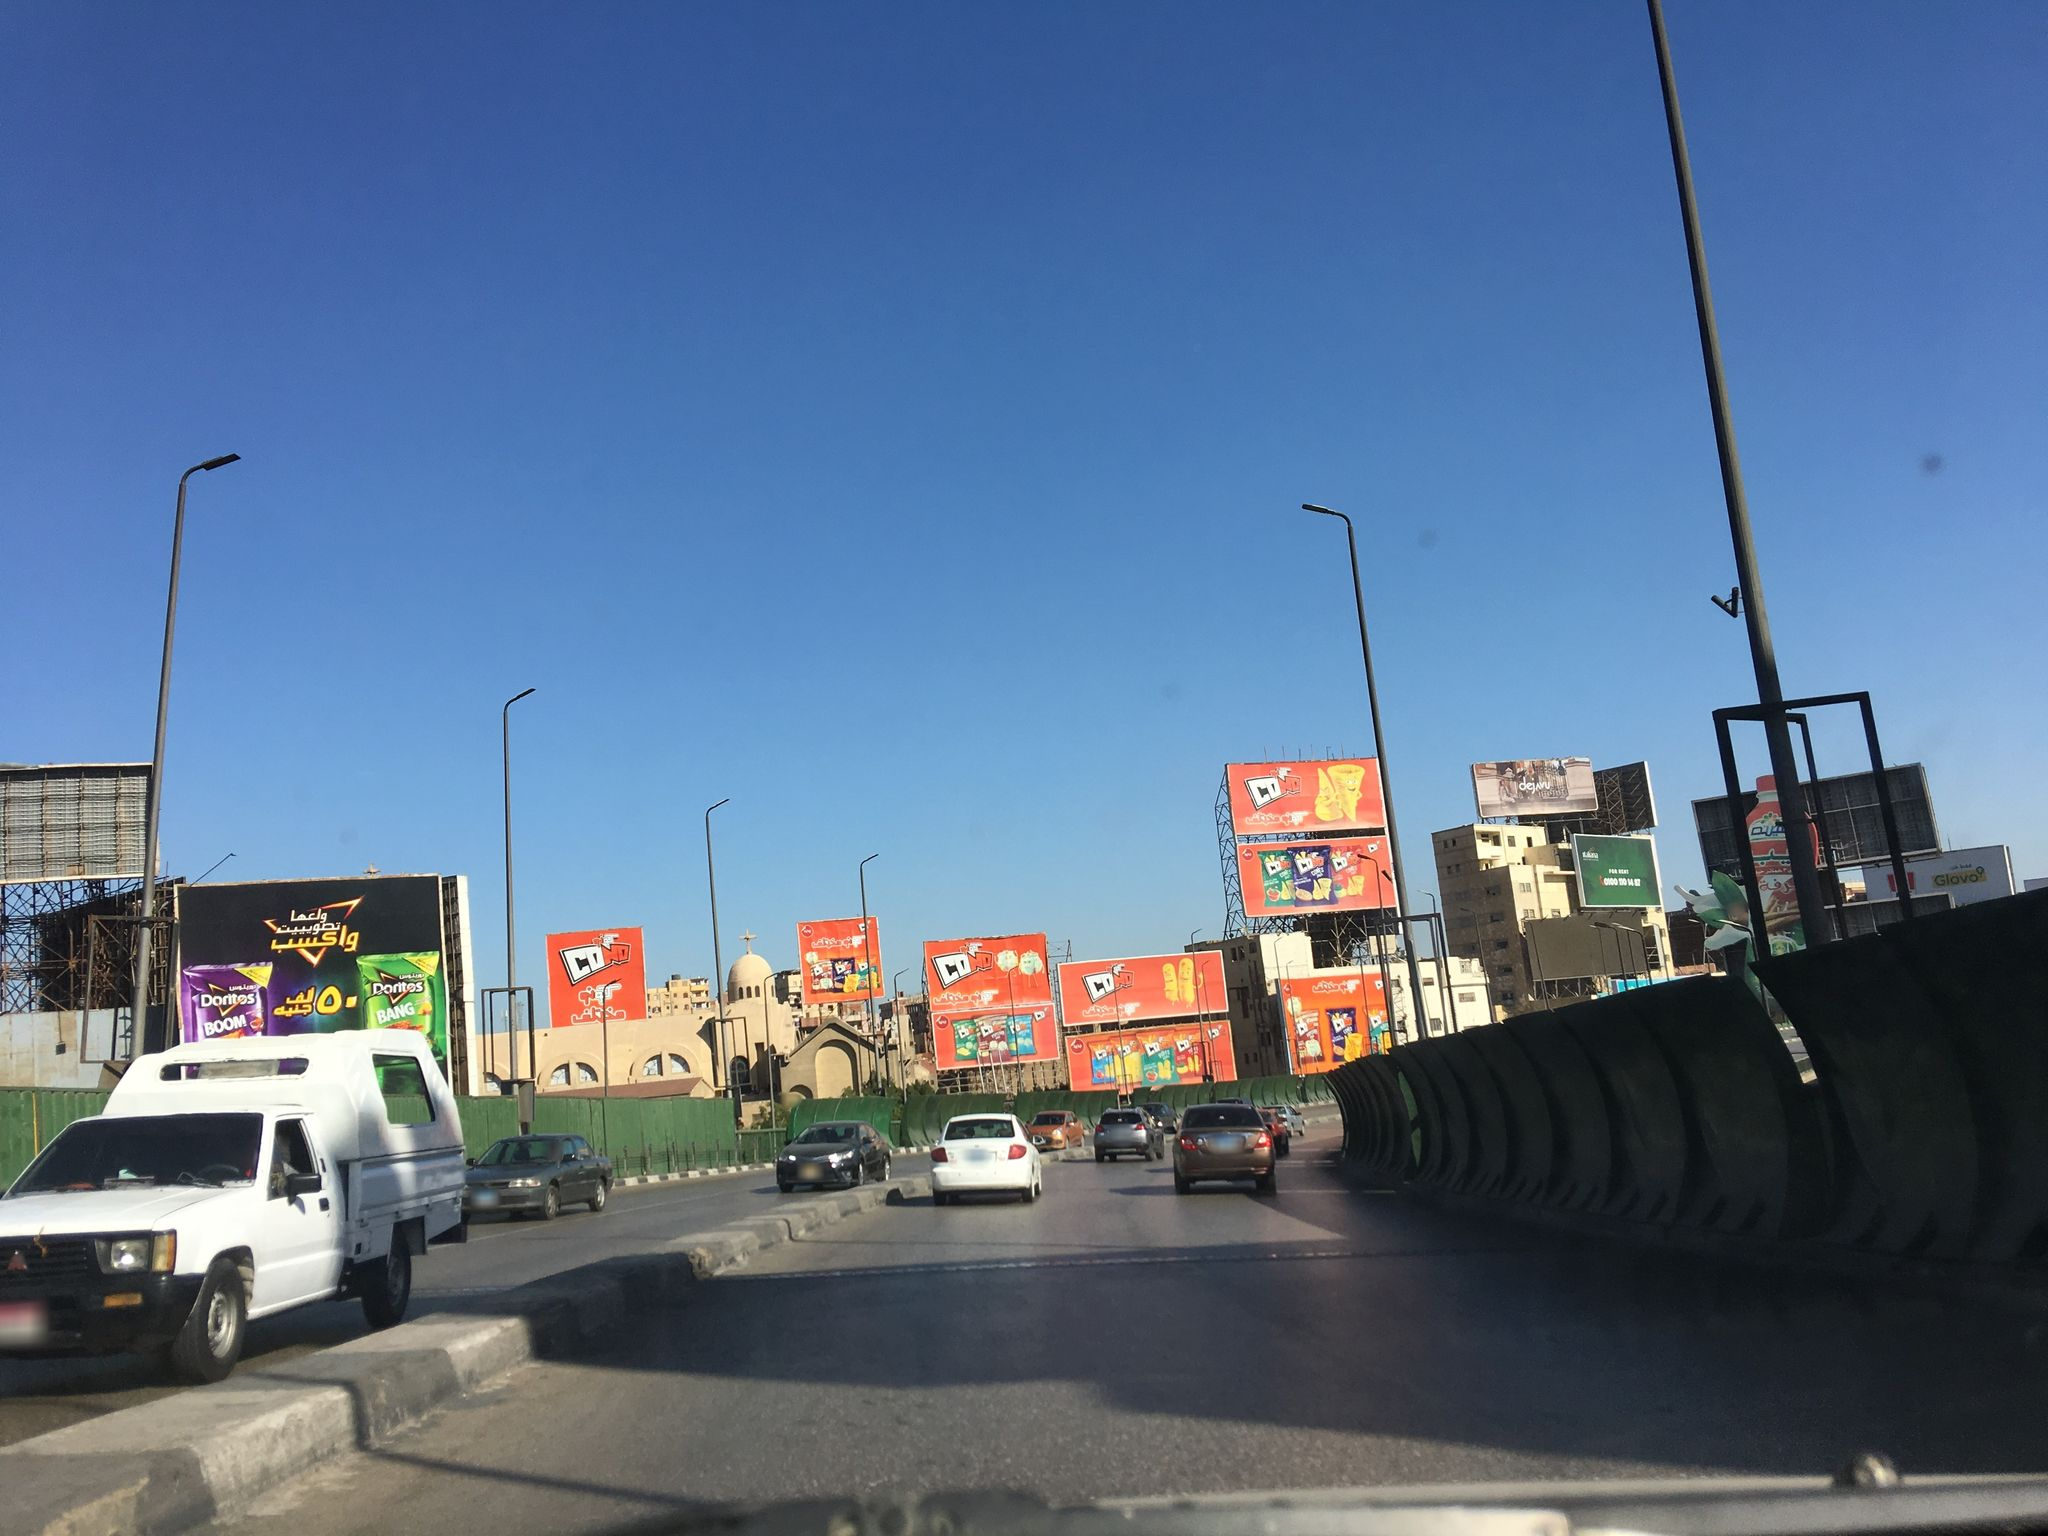car: (461, 1133, 613, 1220), (930, 1112, 1045, 1202), (1171, 1104, 1277, 1191), (776, 1120, 892, 1187), (1093, 1107, 1164, 1162), (1024, 1108, 1084, 1150), (1256, 1108, 1290, 1157), (1263, 1105, 1305, 1136), (1140, 1102, 1177, 1133)
truck: (0, 1028, 466, 1392)
